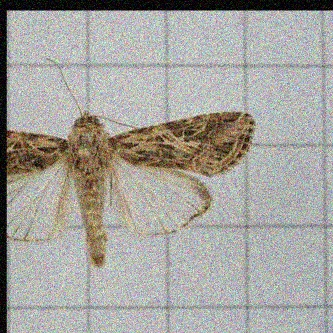Spodoptera litura: (7, 58, 257, 268)
